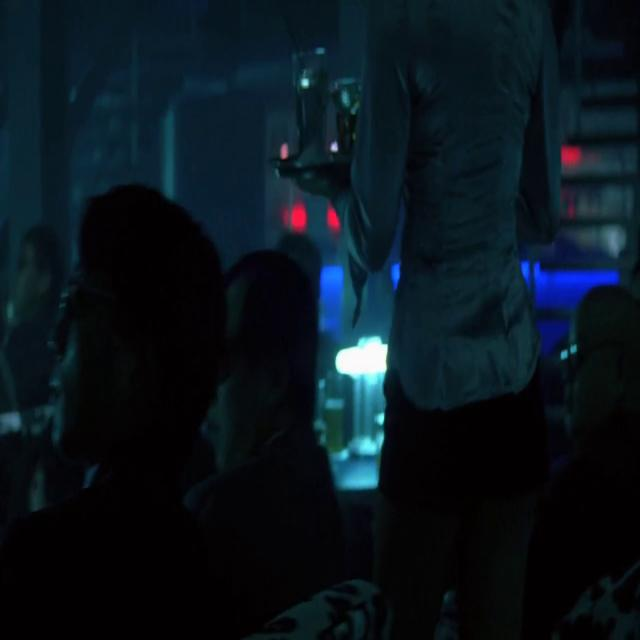Cup: (291, 31, 334, 173), (337, 62, 363, 175)
People: (358, 0, 547, 640), (43, 167, 211, 606), (194, 221, 338, 638), (562, 256, 640, 591), (0, 162, 63, 468)
